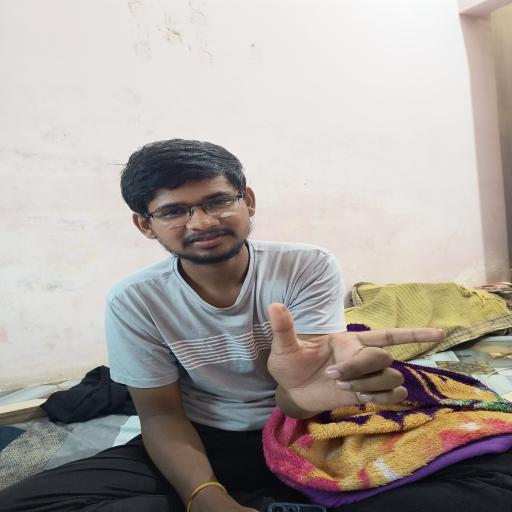Sorry: (254, 292, 454, 438)
